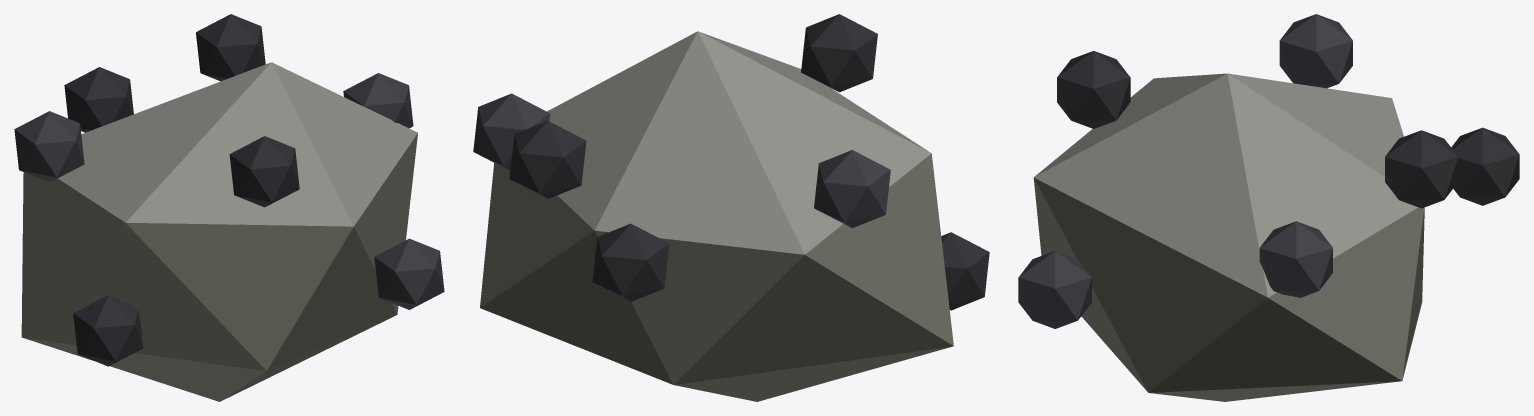
The model's file is CoalOre.fbx.
The picture shows the model from 3 angles, left to right: view 1: azimuth 30°, elevation 25°; view 2: azimuth 150°, elevation 25°; view 3: azimuth 270°, elevation 25°; orthographic projection. The views are drawn at different scales.
Parts seen in each view (by area): view 1: CoalOre; view 2: CoalOre; view 3: CoalOre.
Part boxes in pixels (x1=…): CoalOre: x1=14, y1=14, x2=444, y2=401; CoalOre: x1=473, y1=14, x2=989, y2=401; CoalOre: x1=1018, y1=14, x2=1519, y2=401.
Bounding box in the file's own units: 3.84 × 2.92 × 3.71.
Materials: 1 (1 with a texture image).
